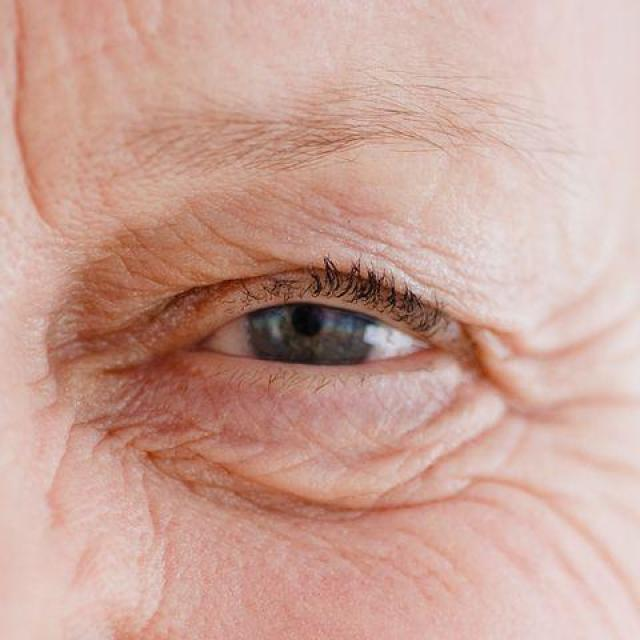Wrinkles: (373, 471, 635, 607), (456, 305, 637, 433), (8, 4, 61, 233), (42, 411, 103, 531)
